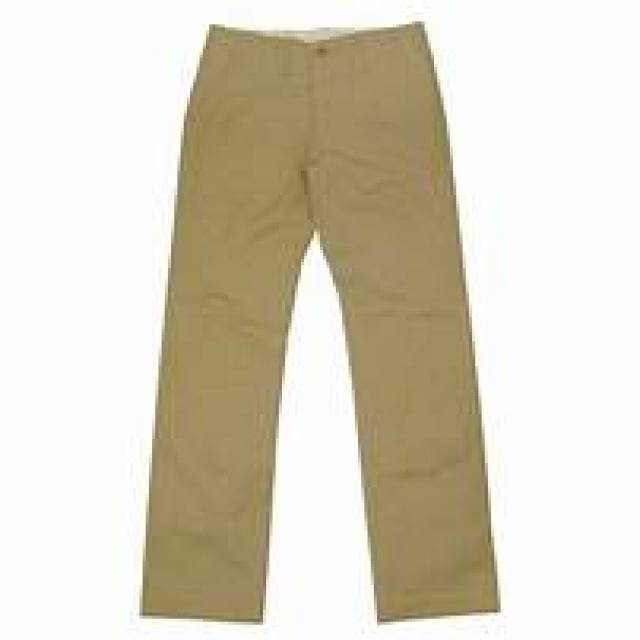long-pants: (142, 19, 500, 628)
